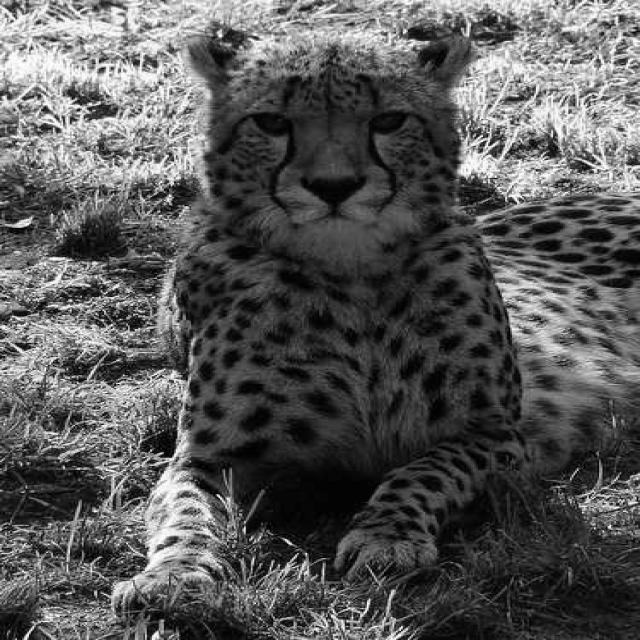Leopard: (106, 22, 563, 589)
